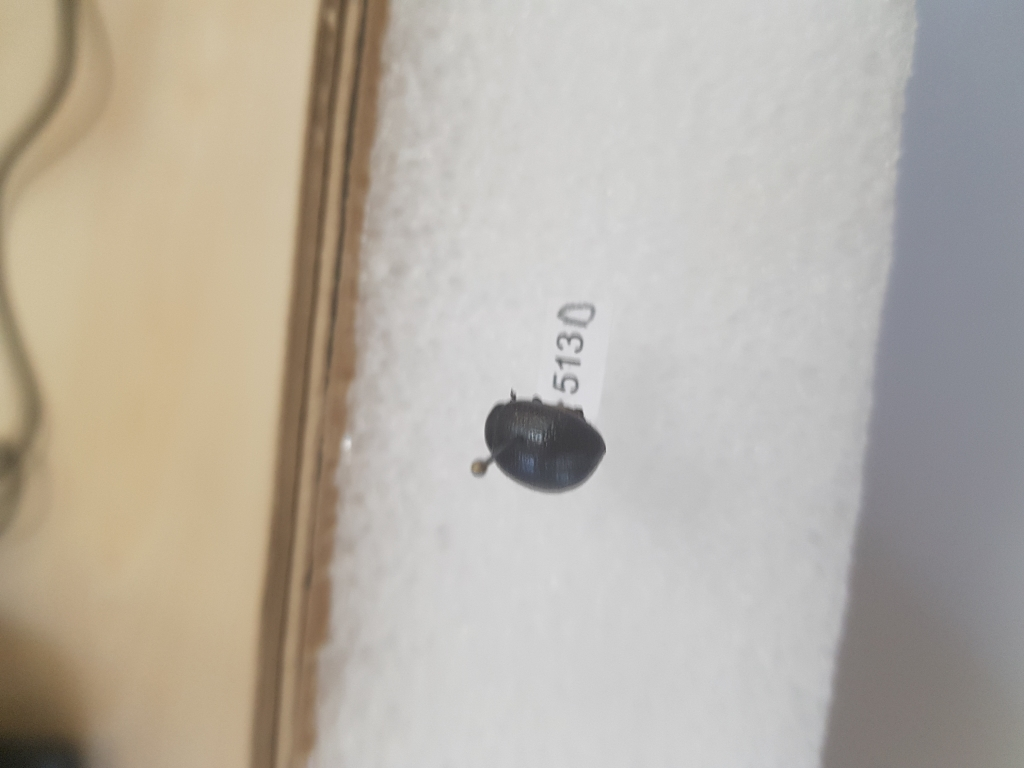Chrysolina_oricalcia: (480, 386, 612, 497)
